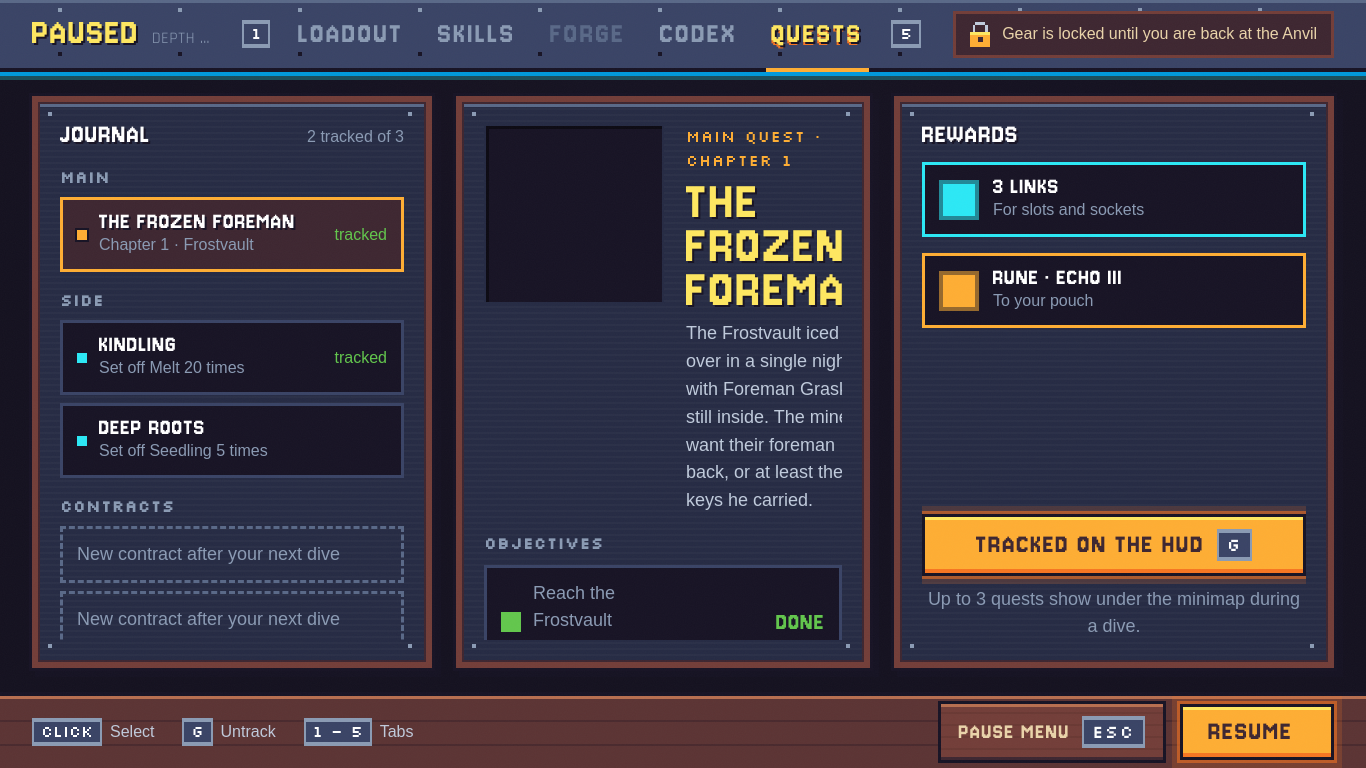
Test: PauseScreen › a link (the journal, a find) opens the hub directly; B from there is the list
Step 1. Click the button "Pause menu Esc" → coordinates (1052, 732), box [938, 701, 1166, 763]
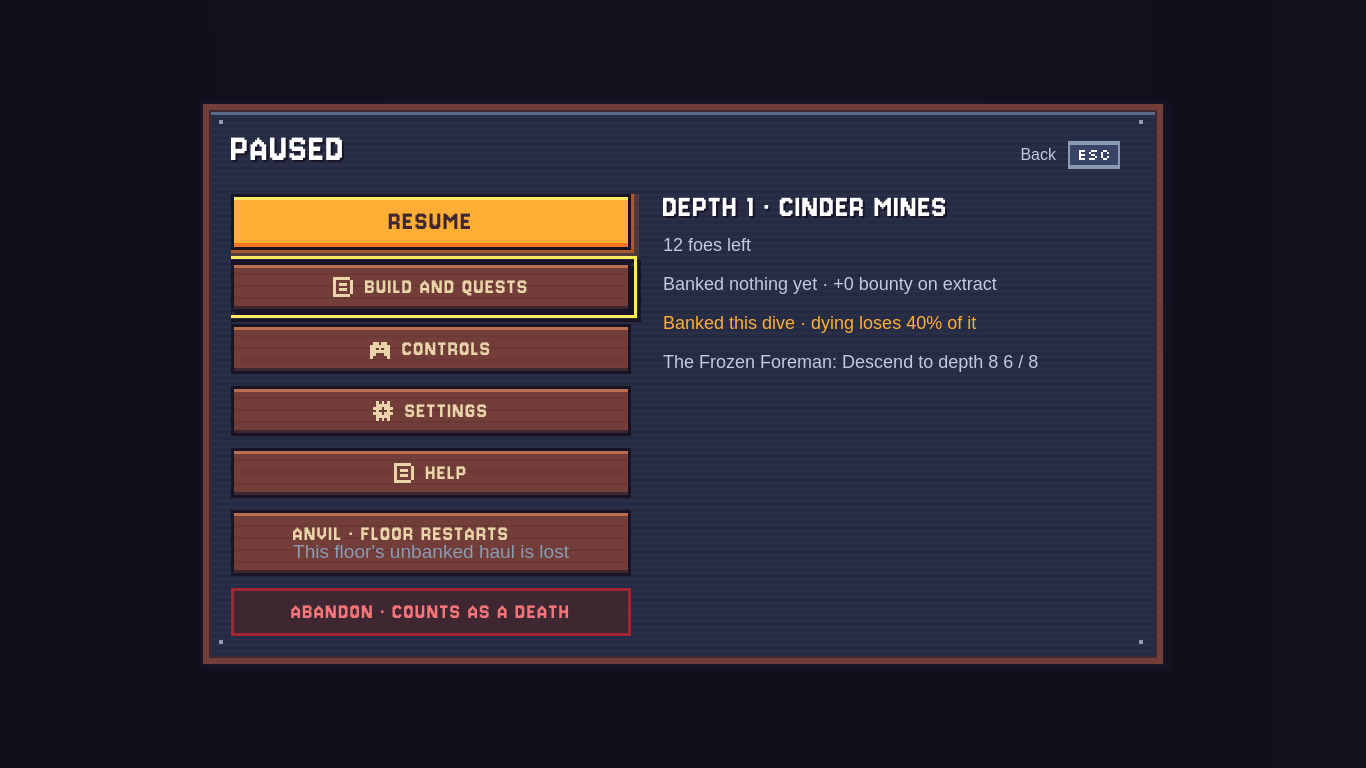
Expected: the dialog with test id "pause-screen" is shown, [203, 104, 1163, 664]
Expected: the element with test id "pause-hub" is gone
